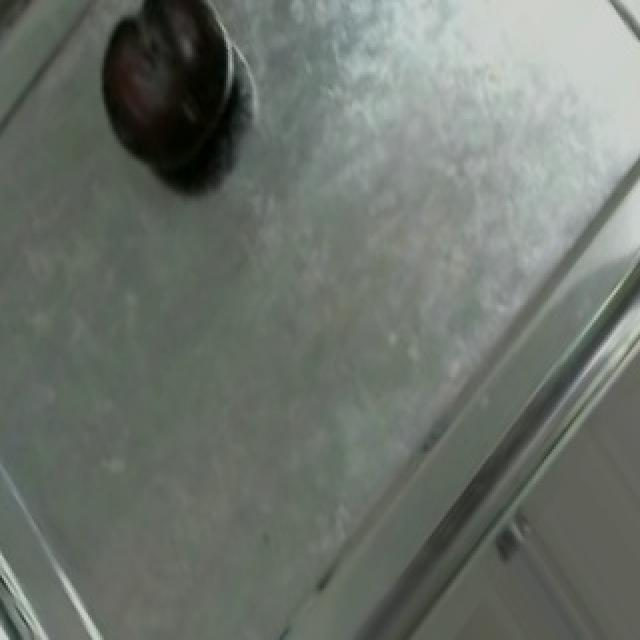Fruit: (76, 0, 256, 196)
